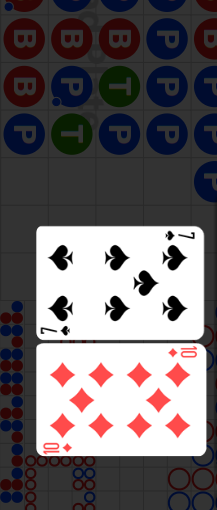10D: (167, 346, 198, 359)
7S: (163, 229, 197, 242)
